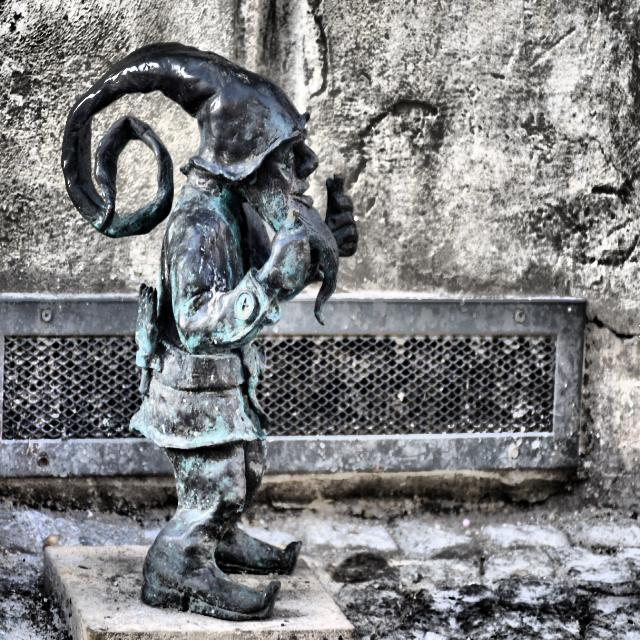Galeriusz: (62, 44, 358, 619)
